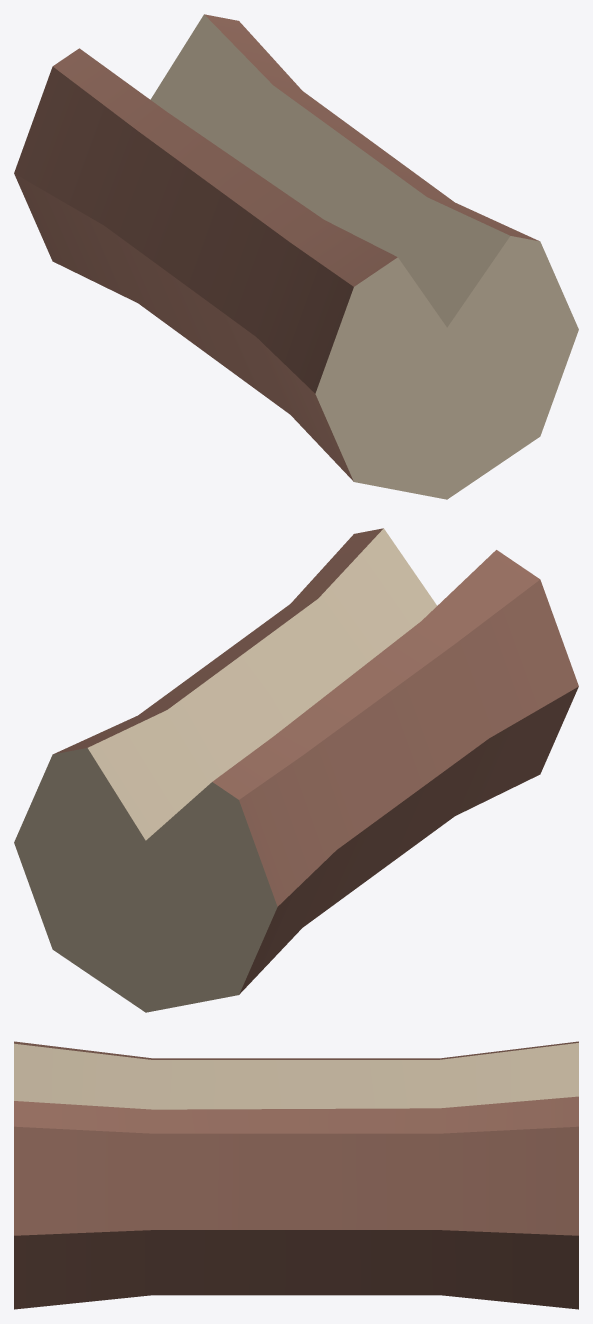
Rendered from SM_Wood_Chopped_Block_03.fbx.
The picture shows the model from 3 angles, top to bottom: view 1: azimuth 30°, elevation 25°; view 2: azimuth 150°, elevation 25°; view 3: azimuth 270°, elevation 25°; orthographic projection. The views are drawn at different scales.
Visible parts, largest first — view 1: Wood_Chopped_Block_03; view 2: Wood_Chopped_Block_03; view 3: Wood_Chopped_Block_03.
Part boxes in pixels (x1,y1,x2,y2): Wood_Chopped_Block_03: (14, 14, 578, 499); Wood_Chopped_Block_03: (14, 528, 578, 1012); Wood_Chopped_Block_03: (14, 1041, 578, 1309).
Size of the model in its own units: 9.73 by 8.98 by 19.28.
